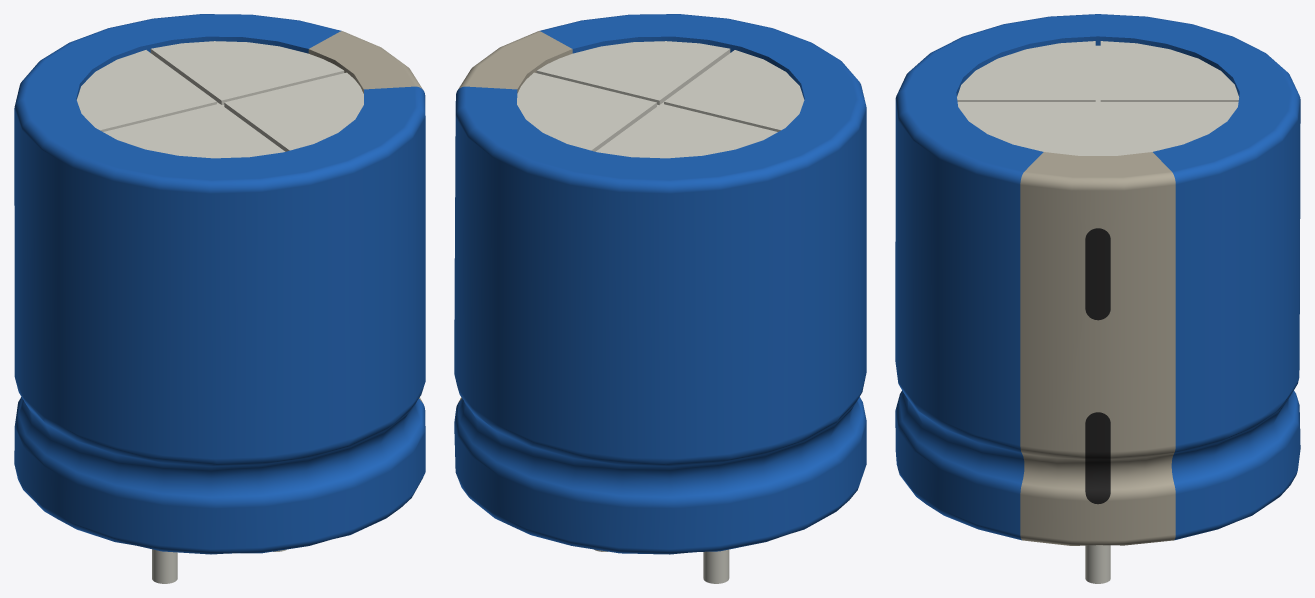
Rendered from Capacitor_THT__CP_Radial_D8.0mm_P2.50mm.glb.
3 views of the same model, side by side, from view 1: azimuth 30°, elevation 25°; view 2: azimuth 150°, elevation 25°; view 3: azimuth 270°, elevation 25° (orthographic).
Visible parts, largest first — view 1: CP_Radial_D80mm_P250mm; view 2: CP_Radial_D80mm_P250mm; view 3: CP_Radial_D80mm_P250mm.
Boxes of the visible parts, bbox=[...] form: CP_Radial_D80mm_P250mm: bbox=[14, 14, 425, 583]; CP_Radial_D80mm_P250mm: bbox=[454, 14, 866, 583]; CP_Radial_D80mm_P250mm: bbox=[895, 14, 1300, 583].
Bounding box in the file's own units: 0.008 × 0.01 × 0.00798.
